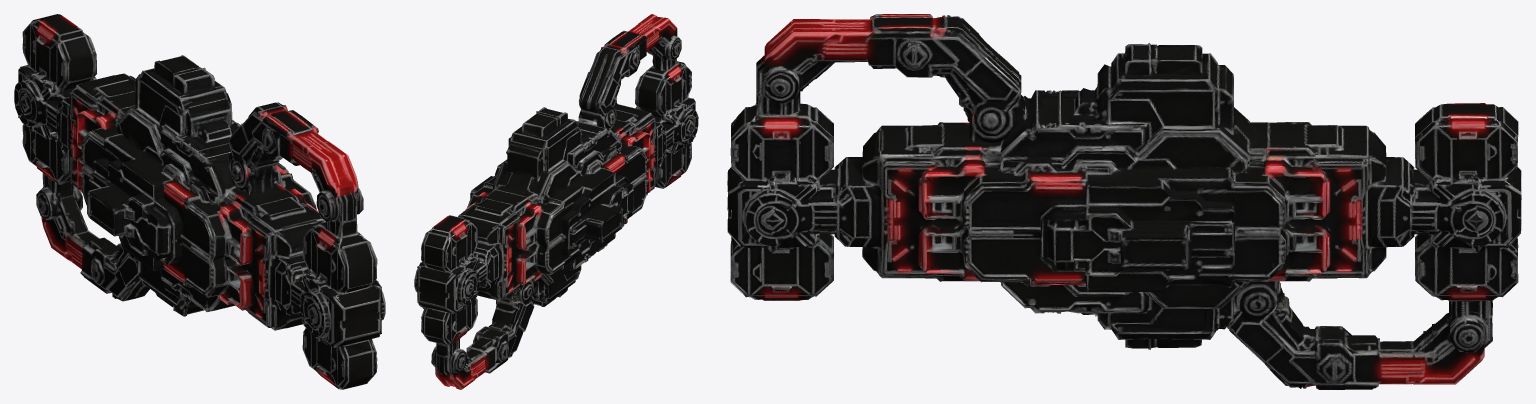
The model's file is Enemigo6.glb.
The picture shows the model from 3 angles, left to right: view 1: azimuth 30°, elevation 25°; view 2: azimuth 150°, elevation 25°; view 3: azimuth 270°, elevation 25°; orthographic projection. The views are drawn at different scales.
Visible parts, largest first — view 1: tripo_node_d18f5867-d27c-4b86-a14d-84e9a7272282; view 2: tripo_node_d18f5867-d27c-4b86-a14d-84e9a7272282; view 3: tripo_node_d18f5867-d27c-4b86-a14d-84e9a7272282.
Boxes of the visible parts, bbox=[...] form: tripo_node_d18f5867-d27c-4b86-a14d-84e9a7272282: bbox=[14, 14, 385, 389]; tripo_node_d18f5867-d27c-4b86-a14d-84e9a7272282: bbox=[414, 14, 698, 389]; tripo_node_d18f5867-d27c-4b86-a14d-84e9a7272282: bbox=[727, 14, 1521, 389].
Size of the model in its own units: 0.3004 by 0.4917 by 0.9833.
1 material, 1 textured.
